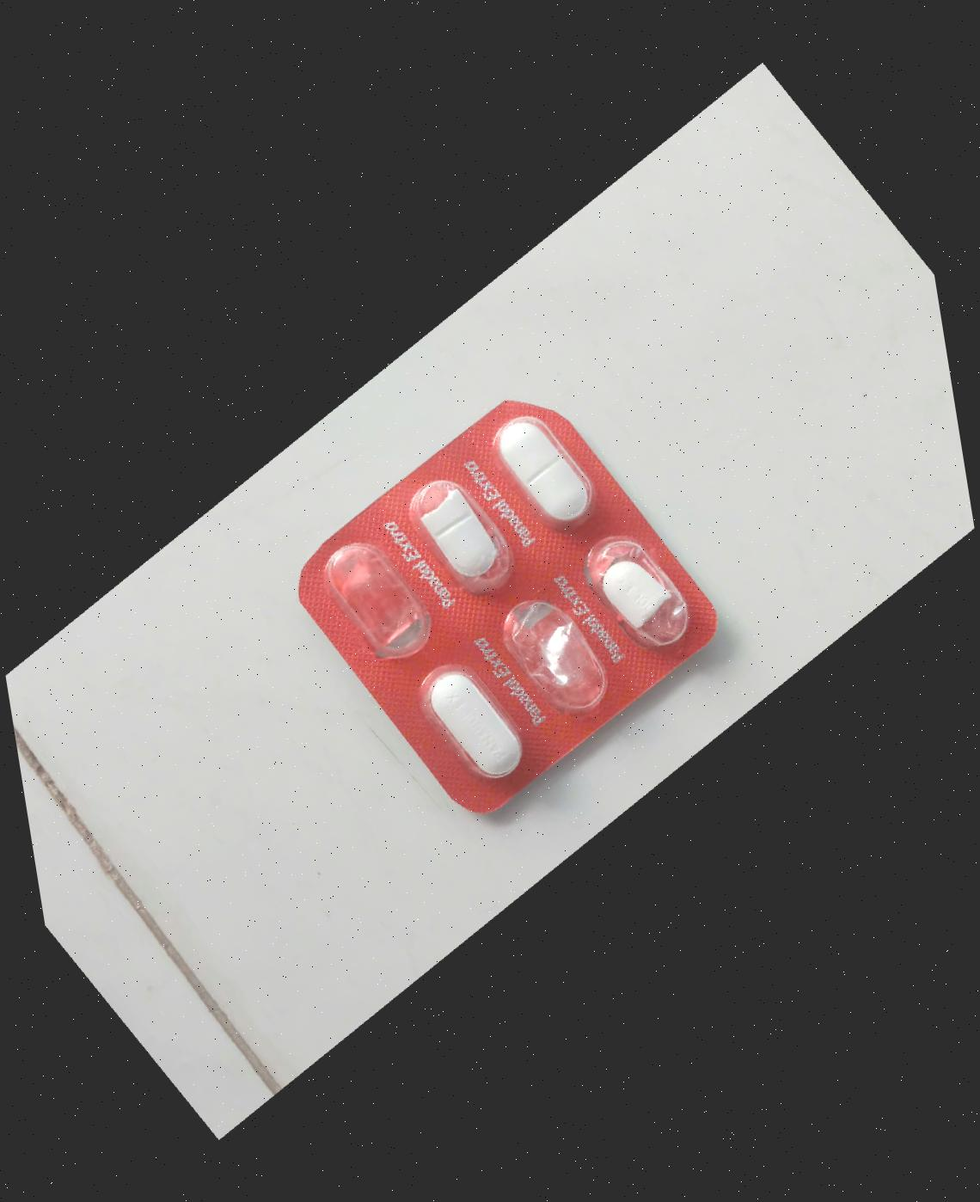Empty: (306, 521, 452, 678), (483, 575, 628, 733)
Full: (404, 641, 550, 798), (473, 393, 618, 551)
Partial: (388, 455, 533, 613), (566, 517, 711, 674)
